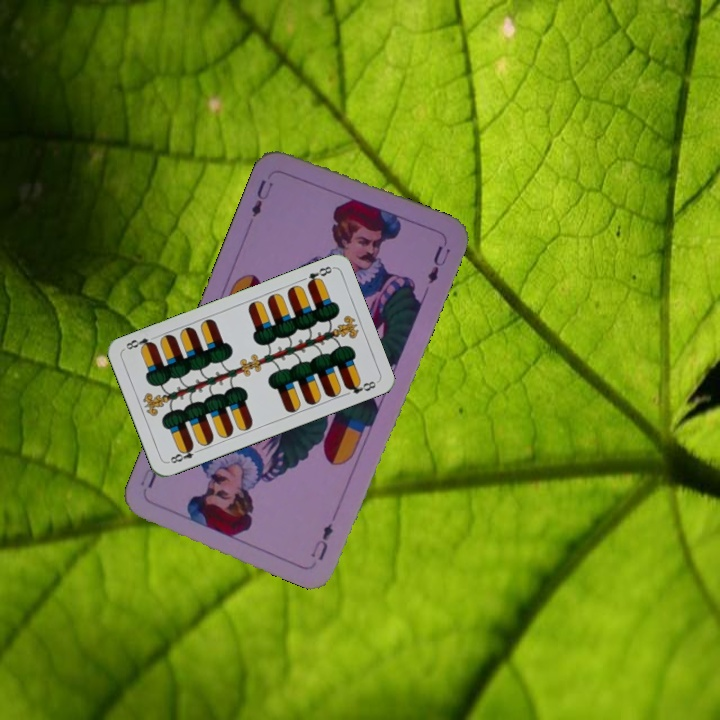E8: (164, 442, 204, 466), (303, 262, 335, 289)
EU: (306, 519, 336, 563), (247, 175, 276, 220)
